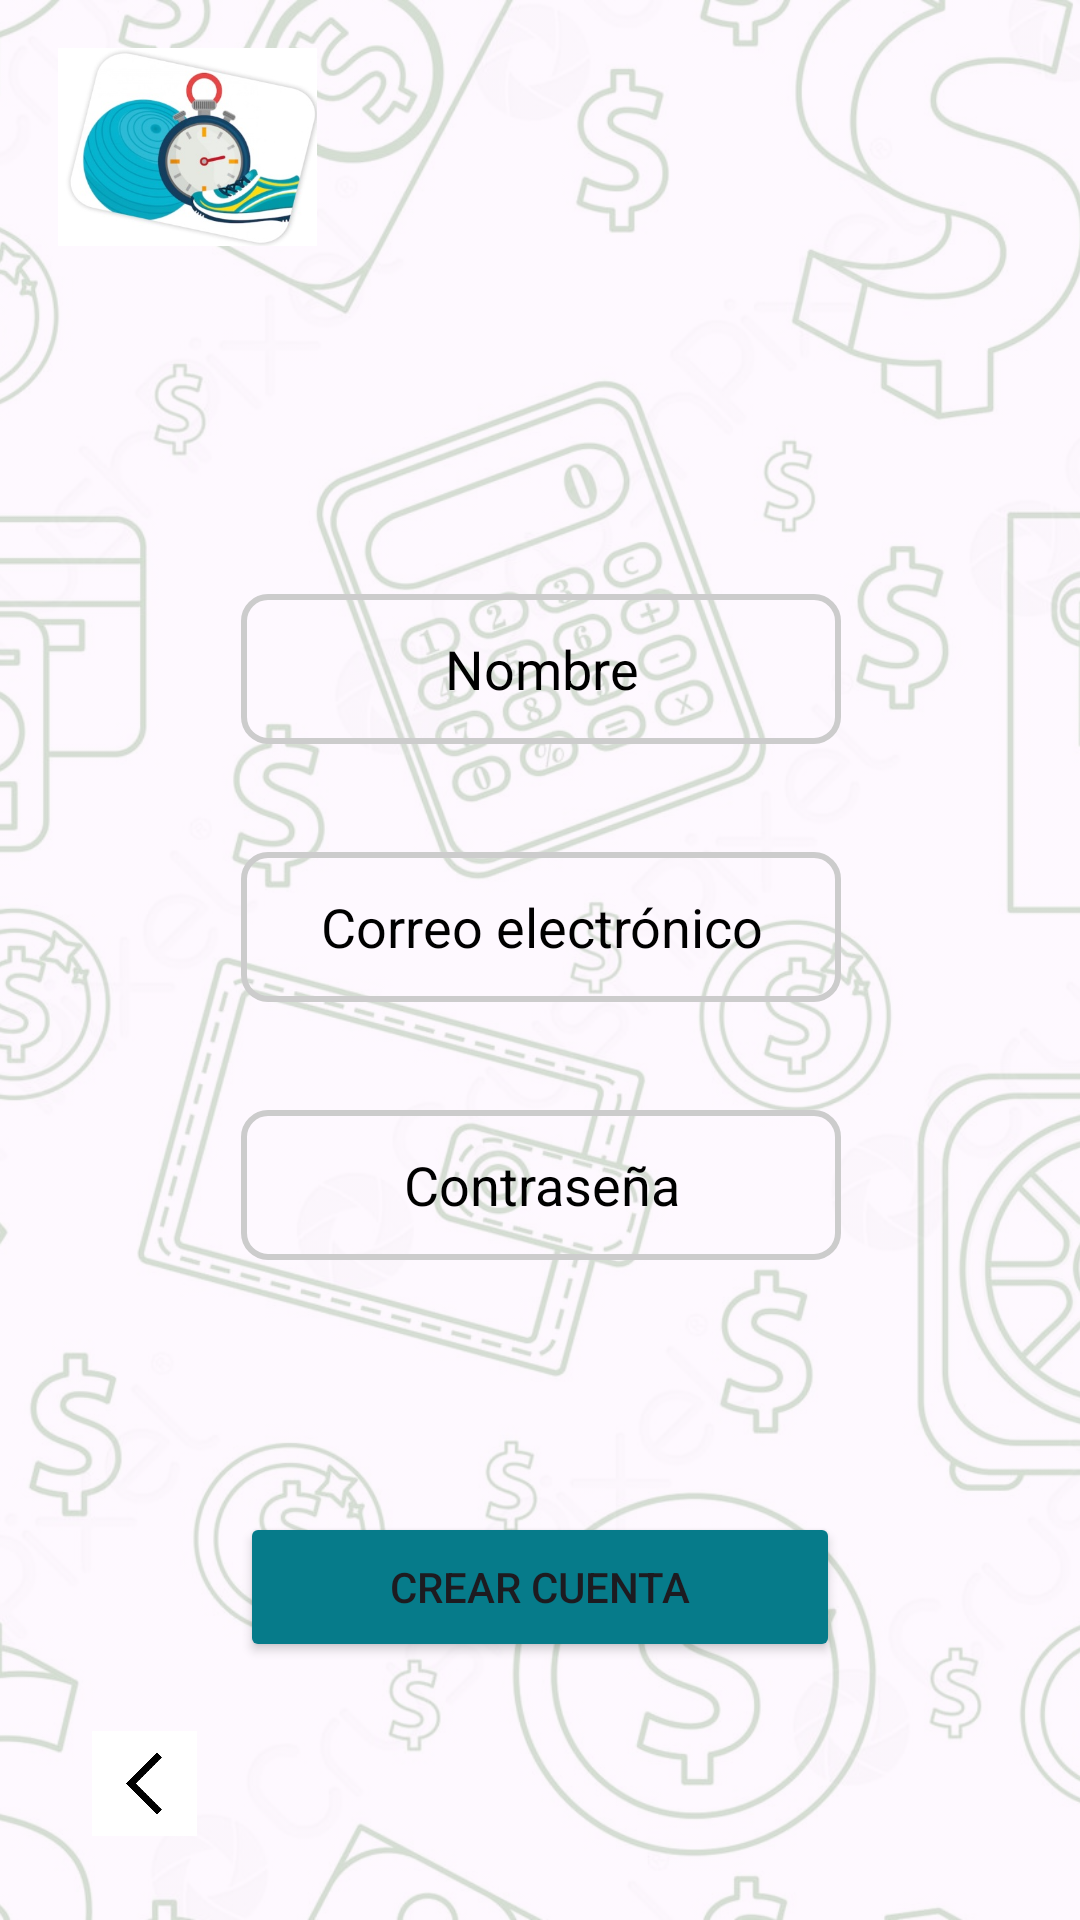

Point at icon controls on the screen. Image size 1080x1920, points as (x=x, y=y).
flecha regresar: (x=144, y=1783)
